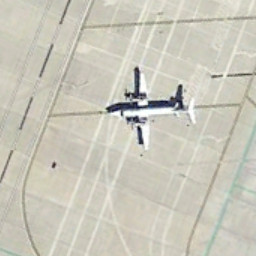Airplane: (104, 63, 219, 150)
